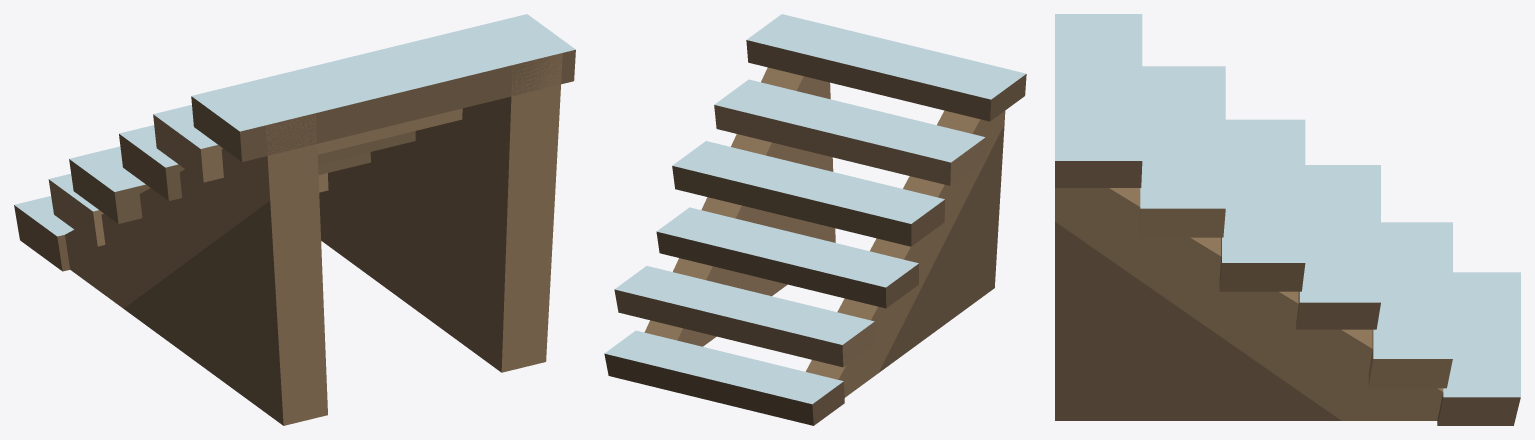
The model's file is SM_Prop_Stairs_Wood_02_Snow.fbx.
The picture shows the model from 3 angles, left to right: view 1: azimuth 30°, elevation 25°; view 2: azimuth 150°, elevation 25°; view 3: azimuth 270°, elevation 25°; orthographic projection. The views are drawn at different scales.
Parts seen in each view (by area): view 1: SM_Prop_Stairs_Wood_02_Snow; view 2: SM_Prop_Stairs_Wood_02_Snow; view 3: SM_Prop_Stairs_Wood_02_Snow.
Part boxes in pixels (x1,y1,x2,y2): SM_Prop_Stairs_Wood_02_Snow: [14, 14, 575, 425]; SM_Prop_Stairs_Wood_02_Snow: [604, 14, 1026, 425]; SM_Prop_Stairs_Wood_02_Snow: [1055, 14, 1520, 425].
Size of the model in its own units: 57.08 by 47.94 by 74.09.
1 material, 1 textured.
